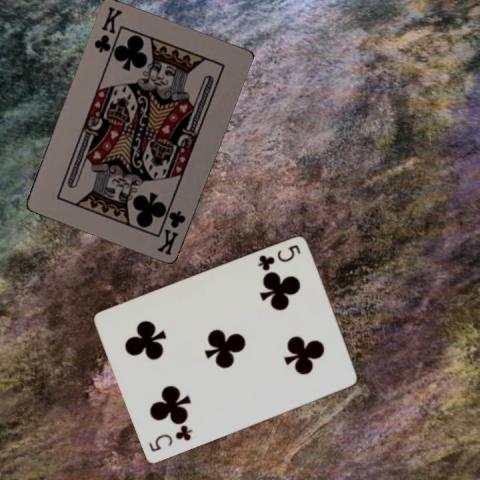5c: (146, 423, 194, 454), (255, 242, 302, 273)
Kc: (91, 3, 124, 54), (153, 207, 187, 256)
